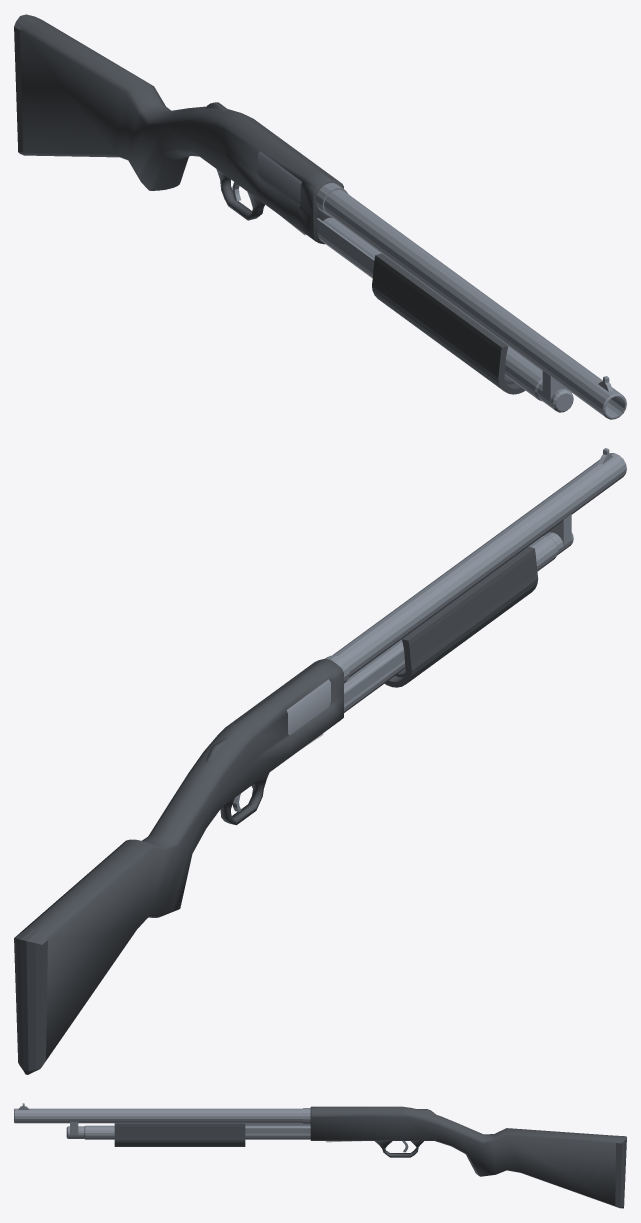
3 views of the same model, one above another, from view 1: azimuth 30°, elevation 25°; view 2: azimuth 150°, elevation 25°; view 3: azimuth 270°, elevation 25° (orthographic). The views are drawn at different scales.
Visible parts, largest first — view 1: m500; view 2: m500; view 3: m500.
Boxes of the visible parts, x1,y1,x2,y2 form: m500: (14,14,626,419); m500: (14,448,626,1074); m500: (14,1103,626,1208).
Bounding box in the file's own units: 0.0391 × 0.1884 × 1.
7 materials, 7 textured.
